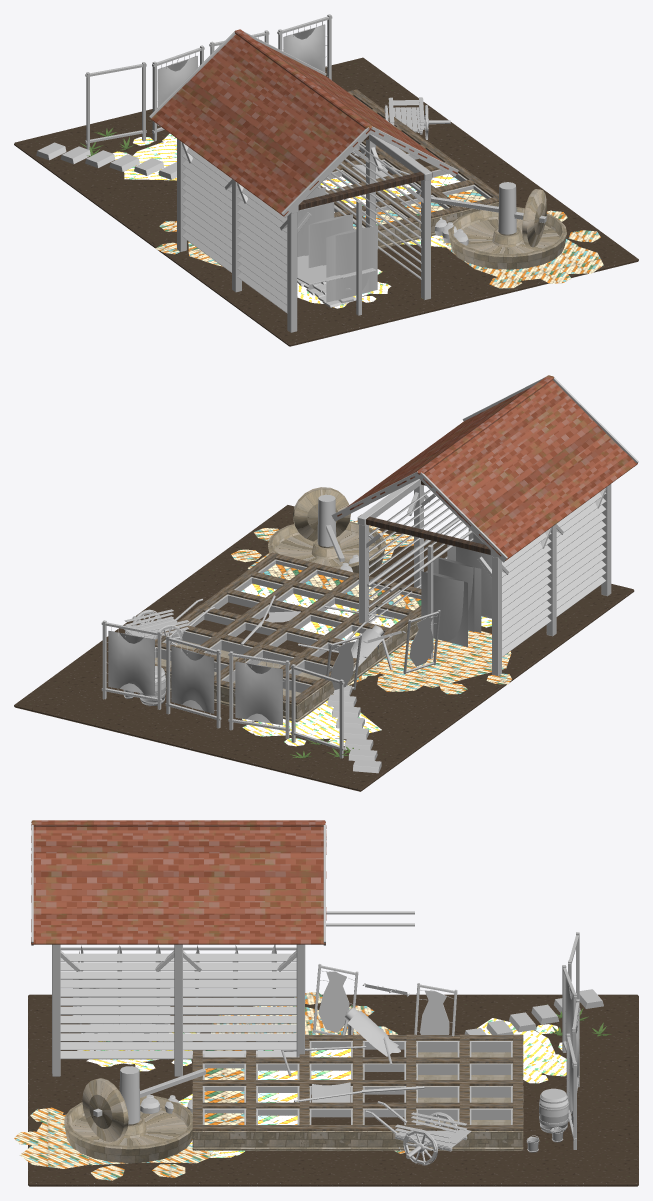
Rendered from tannery.gltf.
3 renders of one model, top to bottom at view 1: azimuth 30°, elevation 25°; view 2: azimuth 150°, elevation 25°; view 3: azimuth 270°, elevation 25°, orthographic. The views are drawn at different scales.
Visible parts, largest first — view 1: tannery#n1_0, tannery#0_0, tannery#0_n1, tannery#n1_n1; view 2: tannery#n1_0, tannery#0_0, tannery#0_n1, tannery#n1_n1; view 3: tannery#n1_0, tannery#0_0, tannery#0_n1, tannery#n1_n1.
Part boxes in pixels (x1,y1,x2,y2): tannery#n1_0: (149, 29, 458, 332); tannery#0_0: (14, 57, 638, 346); tannery#0_n1: (209, 14, 498, 249); tannery#n1_n1: (36, 45, 204, 180); tannery#n1_0: (324, 375, 638, 694); tannery#0_0: (14, 487, 634, 791); tannery#0_n1: (101, 552, 421, 728); tannery#n1_n1: (228, 610, 440, 773); tannery#n1_0: (31, 820, 414, 1076); tannery#0_0: (14, 994, 638, 1186); tannery#0_n1: (192, 999, 579, 1165); tannery#n1_n1: (312, 932, 611, 1083).
Size of the model in its own units: 11.17 by 5.98 by 15.34.
